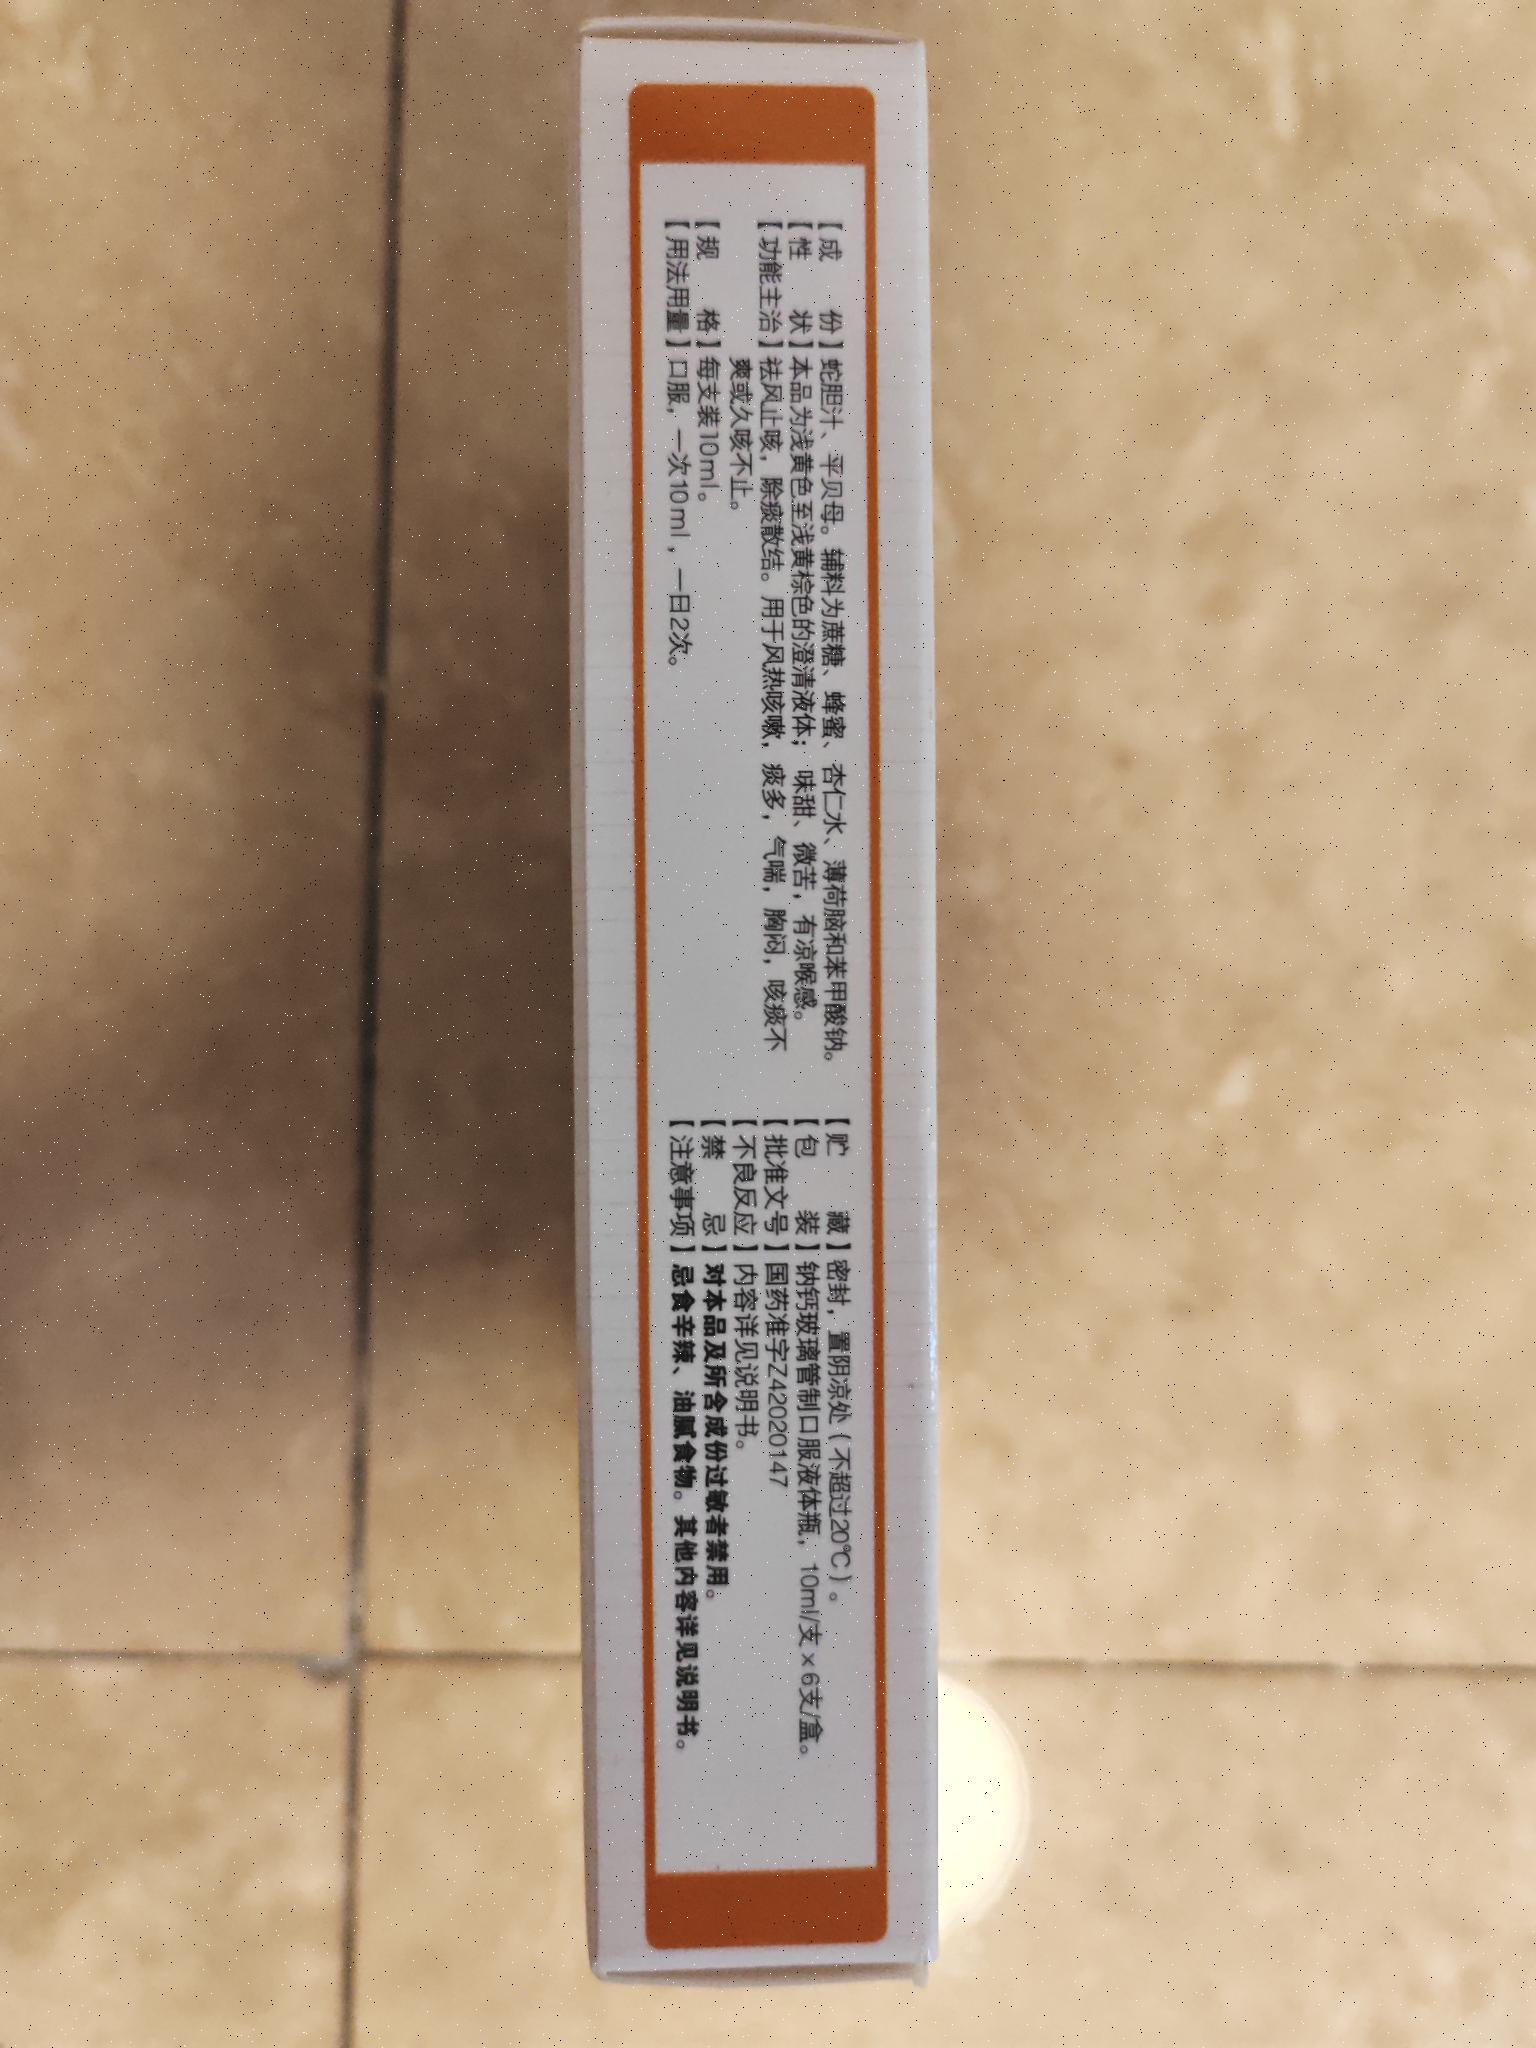Medicine5: (536, 0, 952, 2013)
